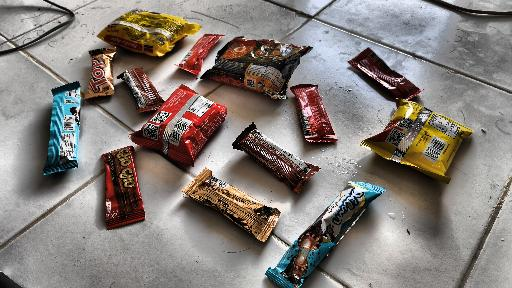chocho: (294, 81, 348, 144)
indomie: (100, 2, 169, 60)
momotaro: (367, 98, 469, 203), (289, 186, 381, 288), (39, 70, 95, 185), (146, 95, 227, 160)
top: (183, 173, 276, 258)
